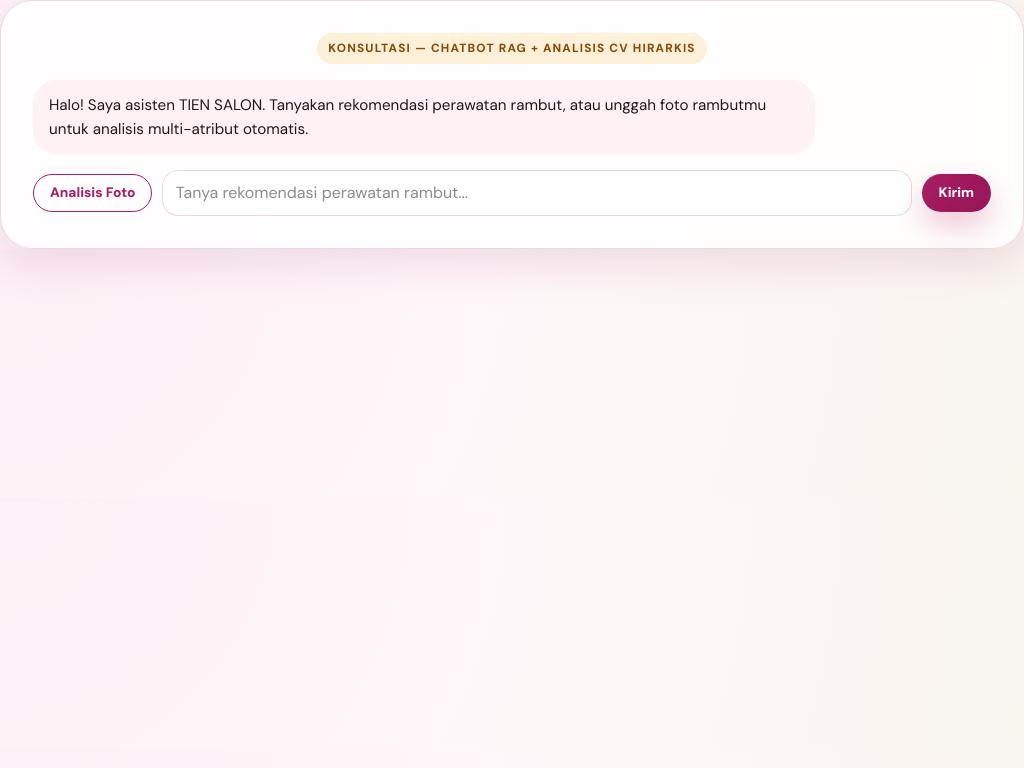
ConsultChat › mempertahankan chat teks, contextId, markdown, dan sumber
Type "Rambut saya kering" into the field at [537, 193], box [162,170,912,216]
Then press Enter
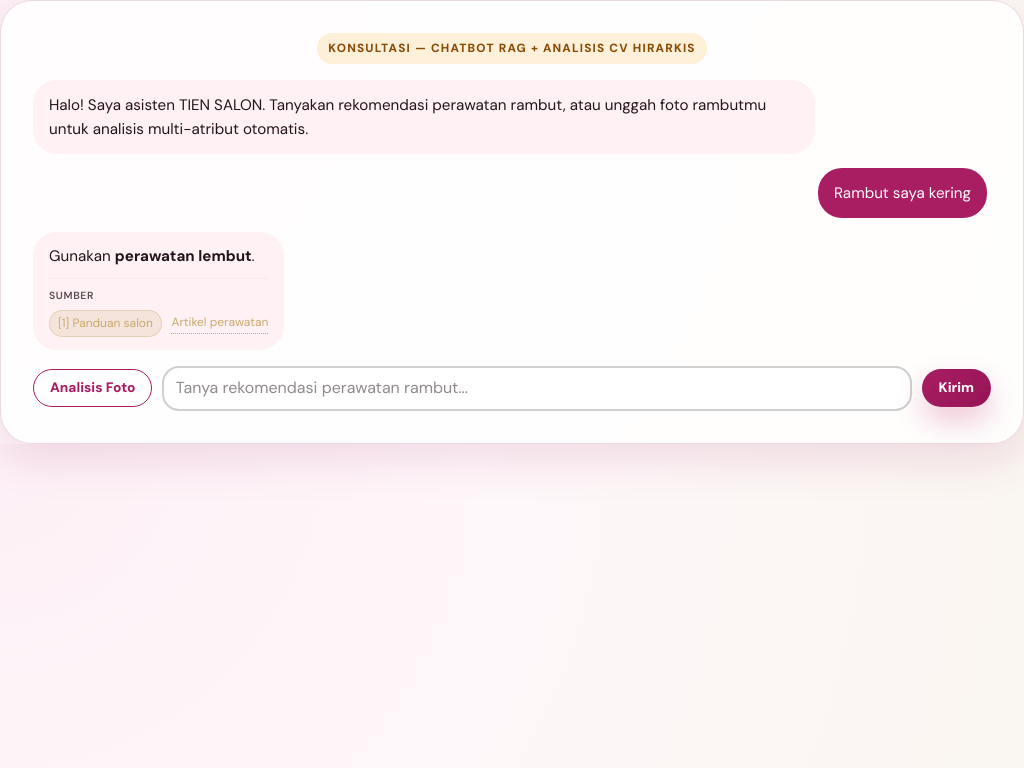
expect the text "[1] Panduan salon" is shown: met, box [49,310,162,337]
Type "Apa layanannya?" into the field at [537, 388], box [162,366,912,411]
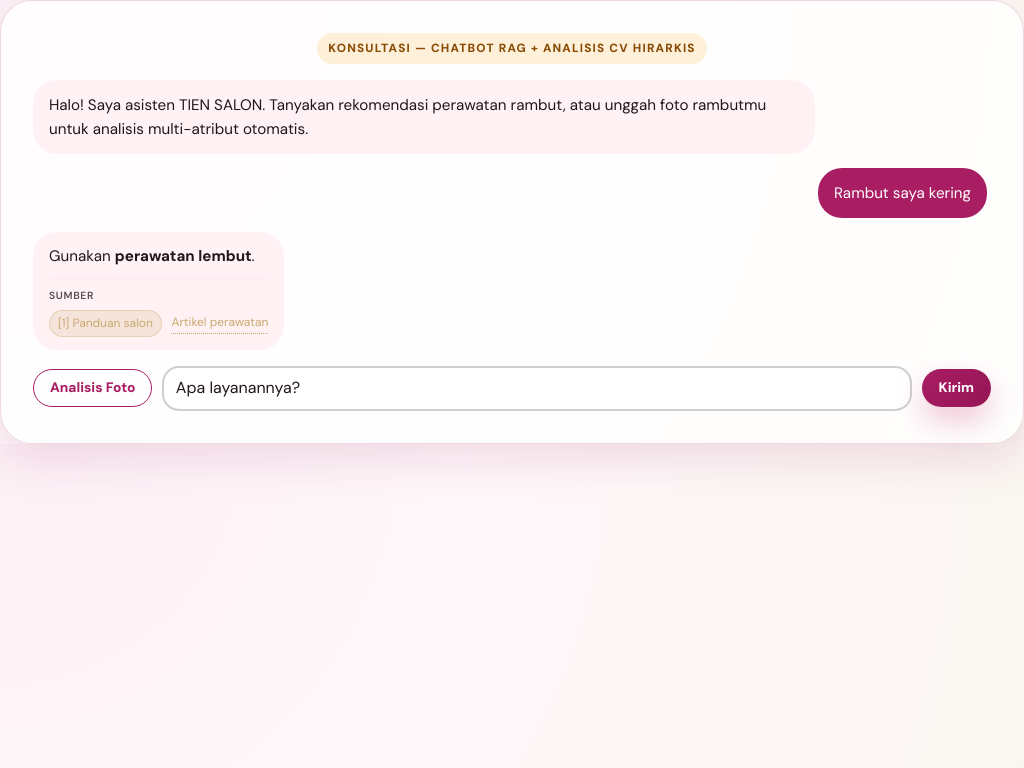
Click the button "Kirim" at [956, 388], box [922,370,991,407]
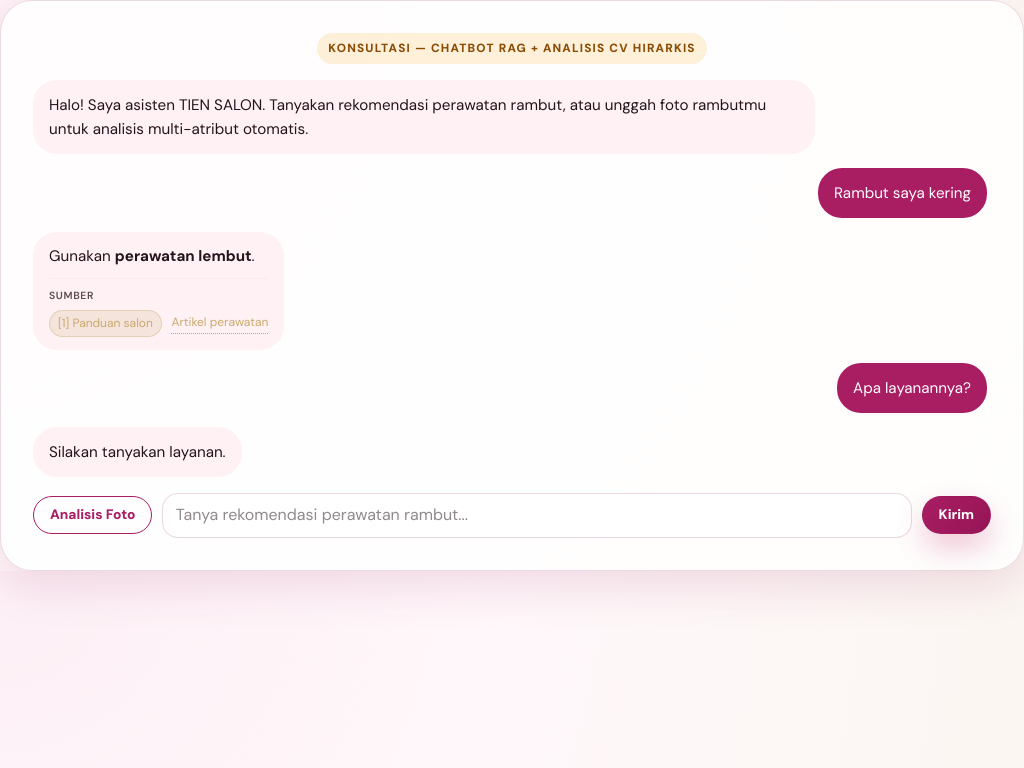
expect the text "Silakan tanyakan layanan." is shown: met, box [49,440,226,464]
